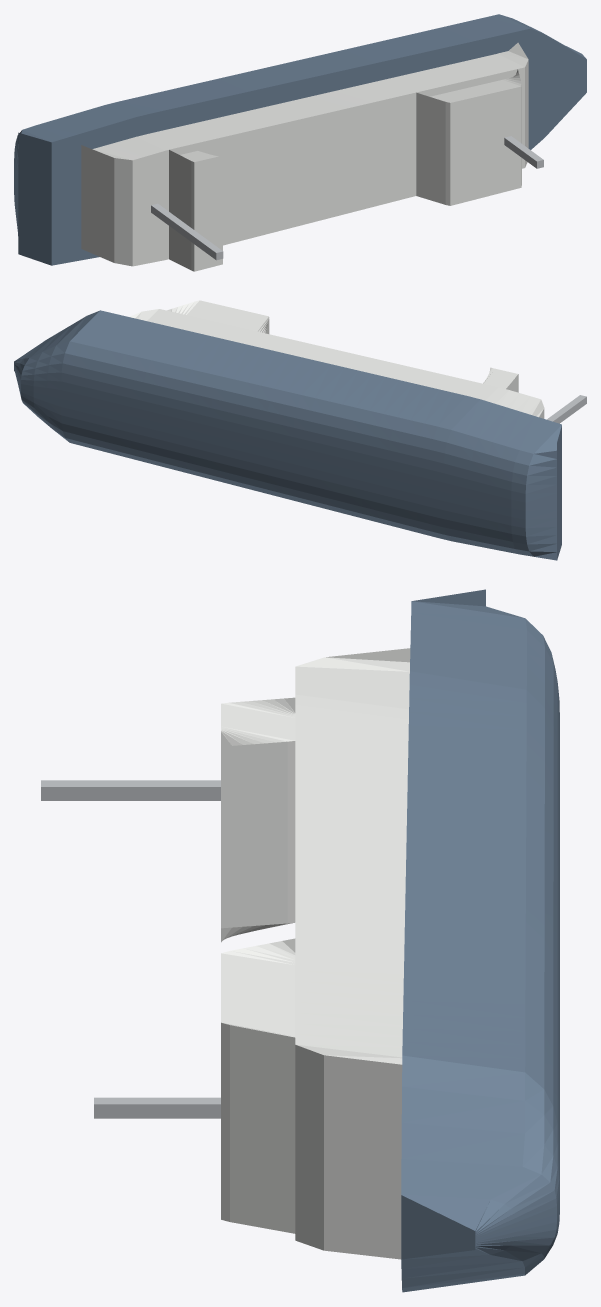
Rendered from loft-ferry.glb.
The picture shows the model from 3 angles, top to bottom: view 1: azimuth 30°, elevation 25°; view 2: azimuth 150°, elevation 25°; view 3: azimuth 270°, elevation 25°; orthographic projection. The views are drawn at different scales.
Parts seen in each view (by area): view 1: ferry; view 2: ferry; view 3: ferry.
Part boxes in pixels (x1,y1,x2,y2): ferry: (14,14,586,271); ferry: (14,300,586,560); ferry: (41,589,559,1292).
Bounding box in the file's own units: 1.93 × 0.4389 × 0.7946.
